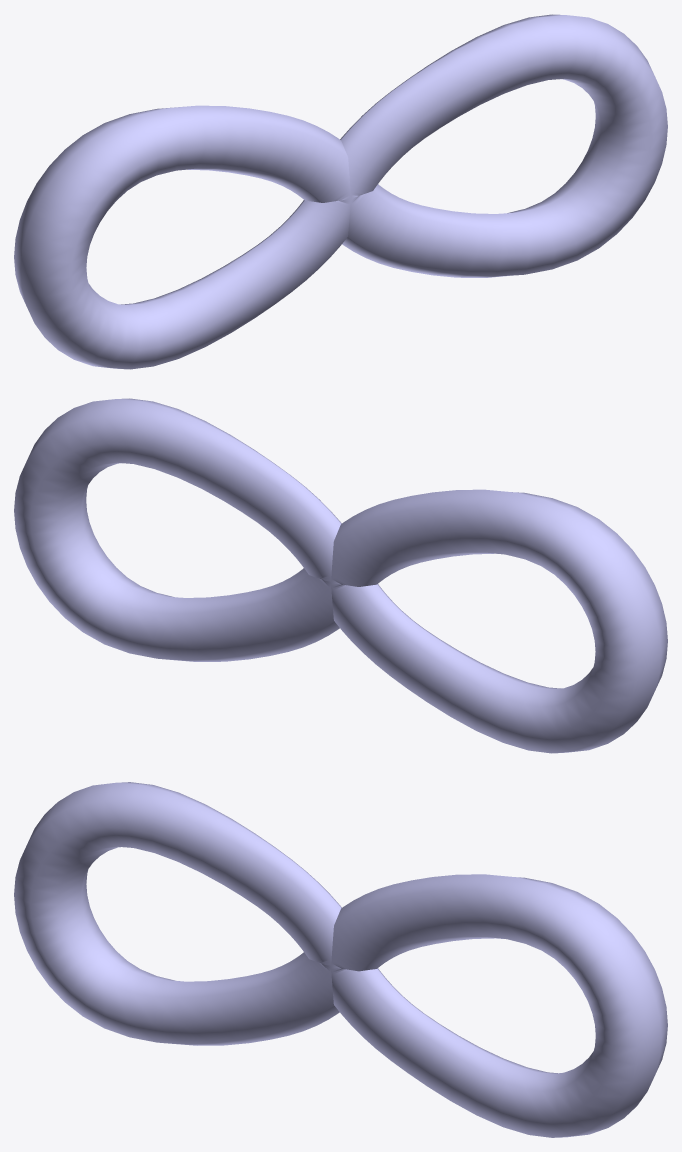
File: [grft] infinity.fbx
3 views of the same model, one above another, from view 1: azimuth 30°, elevation 25°; view 2: azimuth 150°, elevation 25°; view 3: azimuth 330°, elevation 25° (orthographic).
Parts seen in each view (by area): view 1: Circle; view 2: Circle; view 3: Circle.
Boxes of the visible parts, <box> form: Circle: <box>14,14,667,369</box>; Circle: <box>14,398,667,753</box>; Circle: <box>14,782,667,1137</box>.
Size of the model in its own units: 313 by 118 by 34.03.
